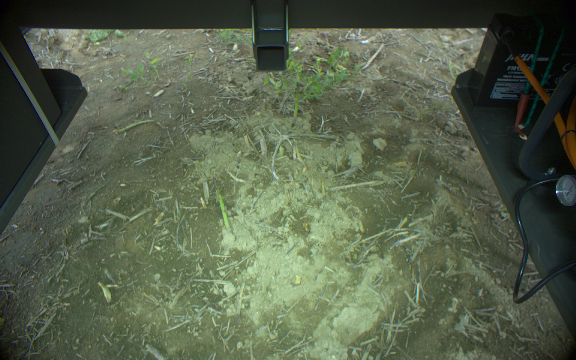aspa: (209, 177, 230, 232), (286, 81, 302, 124), (117, 117, 156, 134)
